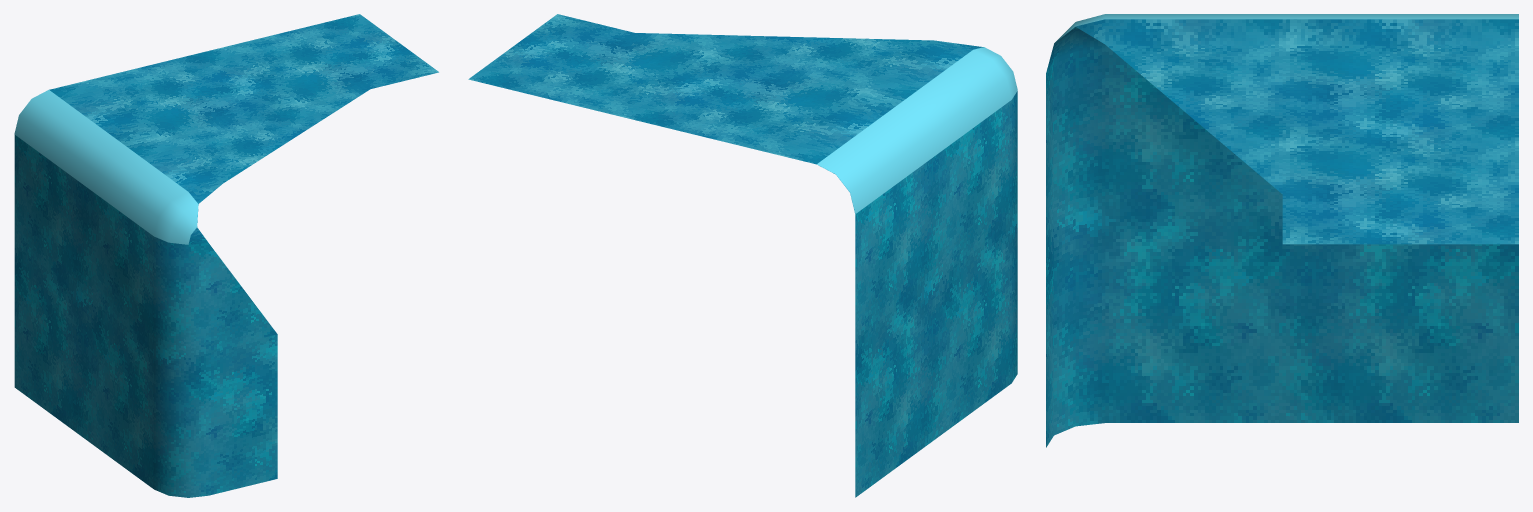
Rendered from Water_Waterfall_Top_Right_2x3.fbx.
3 views of the same model, side by side, from view 1: azimuth 30°, elevation 25°; view 2: azimuth 150°, elevation 25°; view 3: azimuth 270°, elevation 25° (orthographic). The views are drawn at different scales.
Visible parts, largest first — view 1: Water_Waterfall_Top_Right_2x3, Water_Waterfall_Top_Right_2x3_River, Water_Waterfall_Top_Right_2x3_Crest; view 2: Water_Waterfall_Top_Right_2x3, Water_Waterfall_Top_Right_2x3_River, Water_Waterfall_Top_Right_2x3_Crest; view 3: Water_Waterfall_Top_Right_2x3, Water_Waterfall_Top_Right_2x3_River, Water_Waterfall_Top_Right_2x3_Crest.
Boxes of the visible parts, box(x1,y1,x2,y2) form: Water_Waterfall_Top_Right_2x3: box(14, 135, 277, 497); Water_Waterfall_Top_Right_2x3_River: box(49, 14, 438, 226); Water_Waterfall_Top_Right_2x3_Crest: box(14, 90, 198, 244); Water_Waterfall_Top_Right_2x3: box(836, 91, 1017, 497); Water_Waterfall_Top_Right_2x3_River: box(468, 14, 983, 174); Water_Waterfall_Top_Right_2x3_Crest: box(817, 47, 1017, 213); Water_Waterfall_Top_Right_2x3: box(1046, 27, 1518, 447); Water_Waterfall_Top_Right_2x3_River: box(1055, 19, 1518, 244); Water_Waterfall_Top_Right_2x3_Crest: box(1054, 14, 1518, 43).
Bounding box in the file's own units: 250 × 200 × 200.
